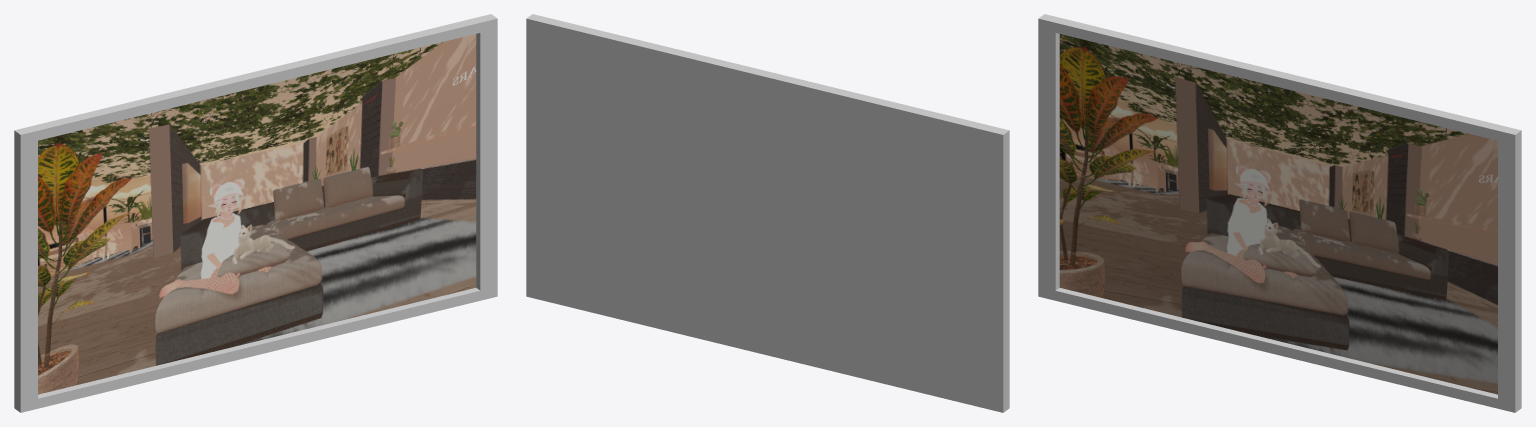
File: photo30.fbx
3 renders of one model, left to right at view 1: azimuth 30°, elevation 25°; view 2: azimuth 150°, elevation 25°; view 3: azimuth 330°, elevation 25°, orthographic.
Parts seen in each view (by area): view 1: Plane.029; view 2: Plane.029; view 3: Plane.029.
Boxes of the visible parts, x1,y1,x2,y2 form: Plane.029: (14, 14, 497, 412); Plane.029: (526, 14, 1009, 412); Plane.029: (1038, 14, 1521, 412).
Bounding box in the file's own units: 138 × 76.64 × 3.15.
2 materials, 1 textured.
